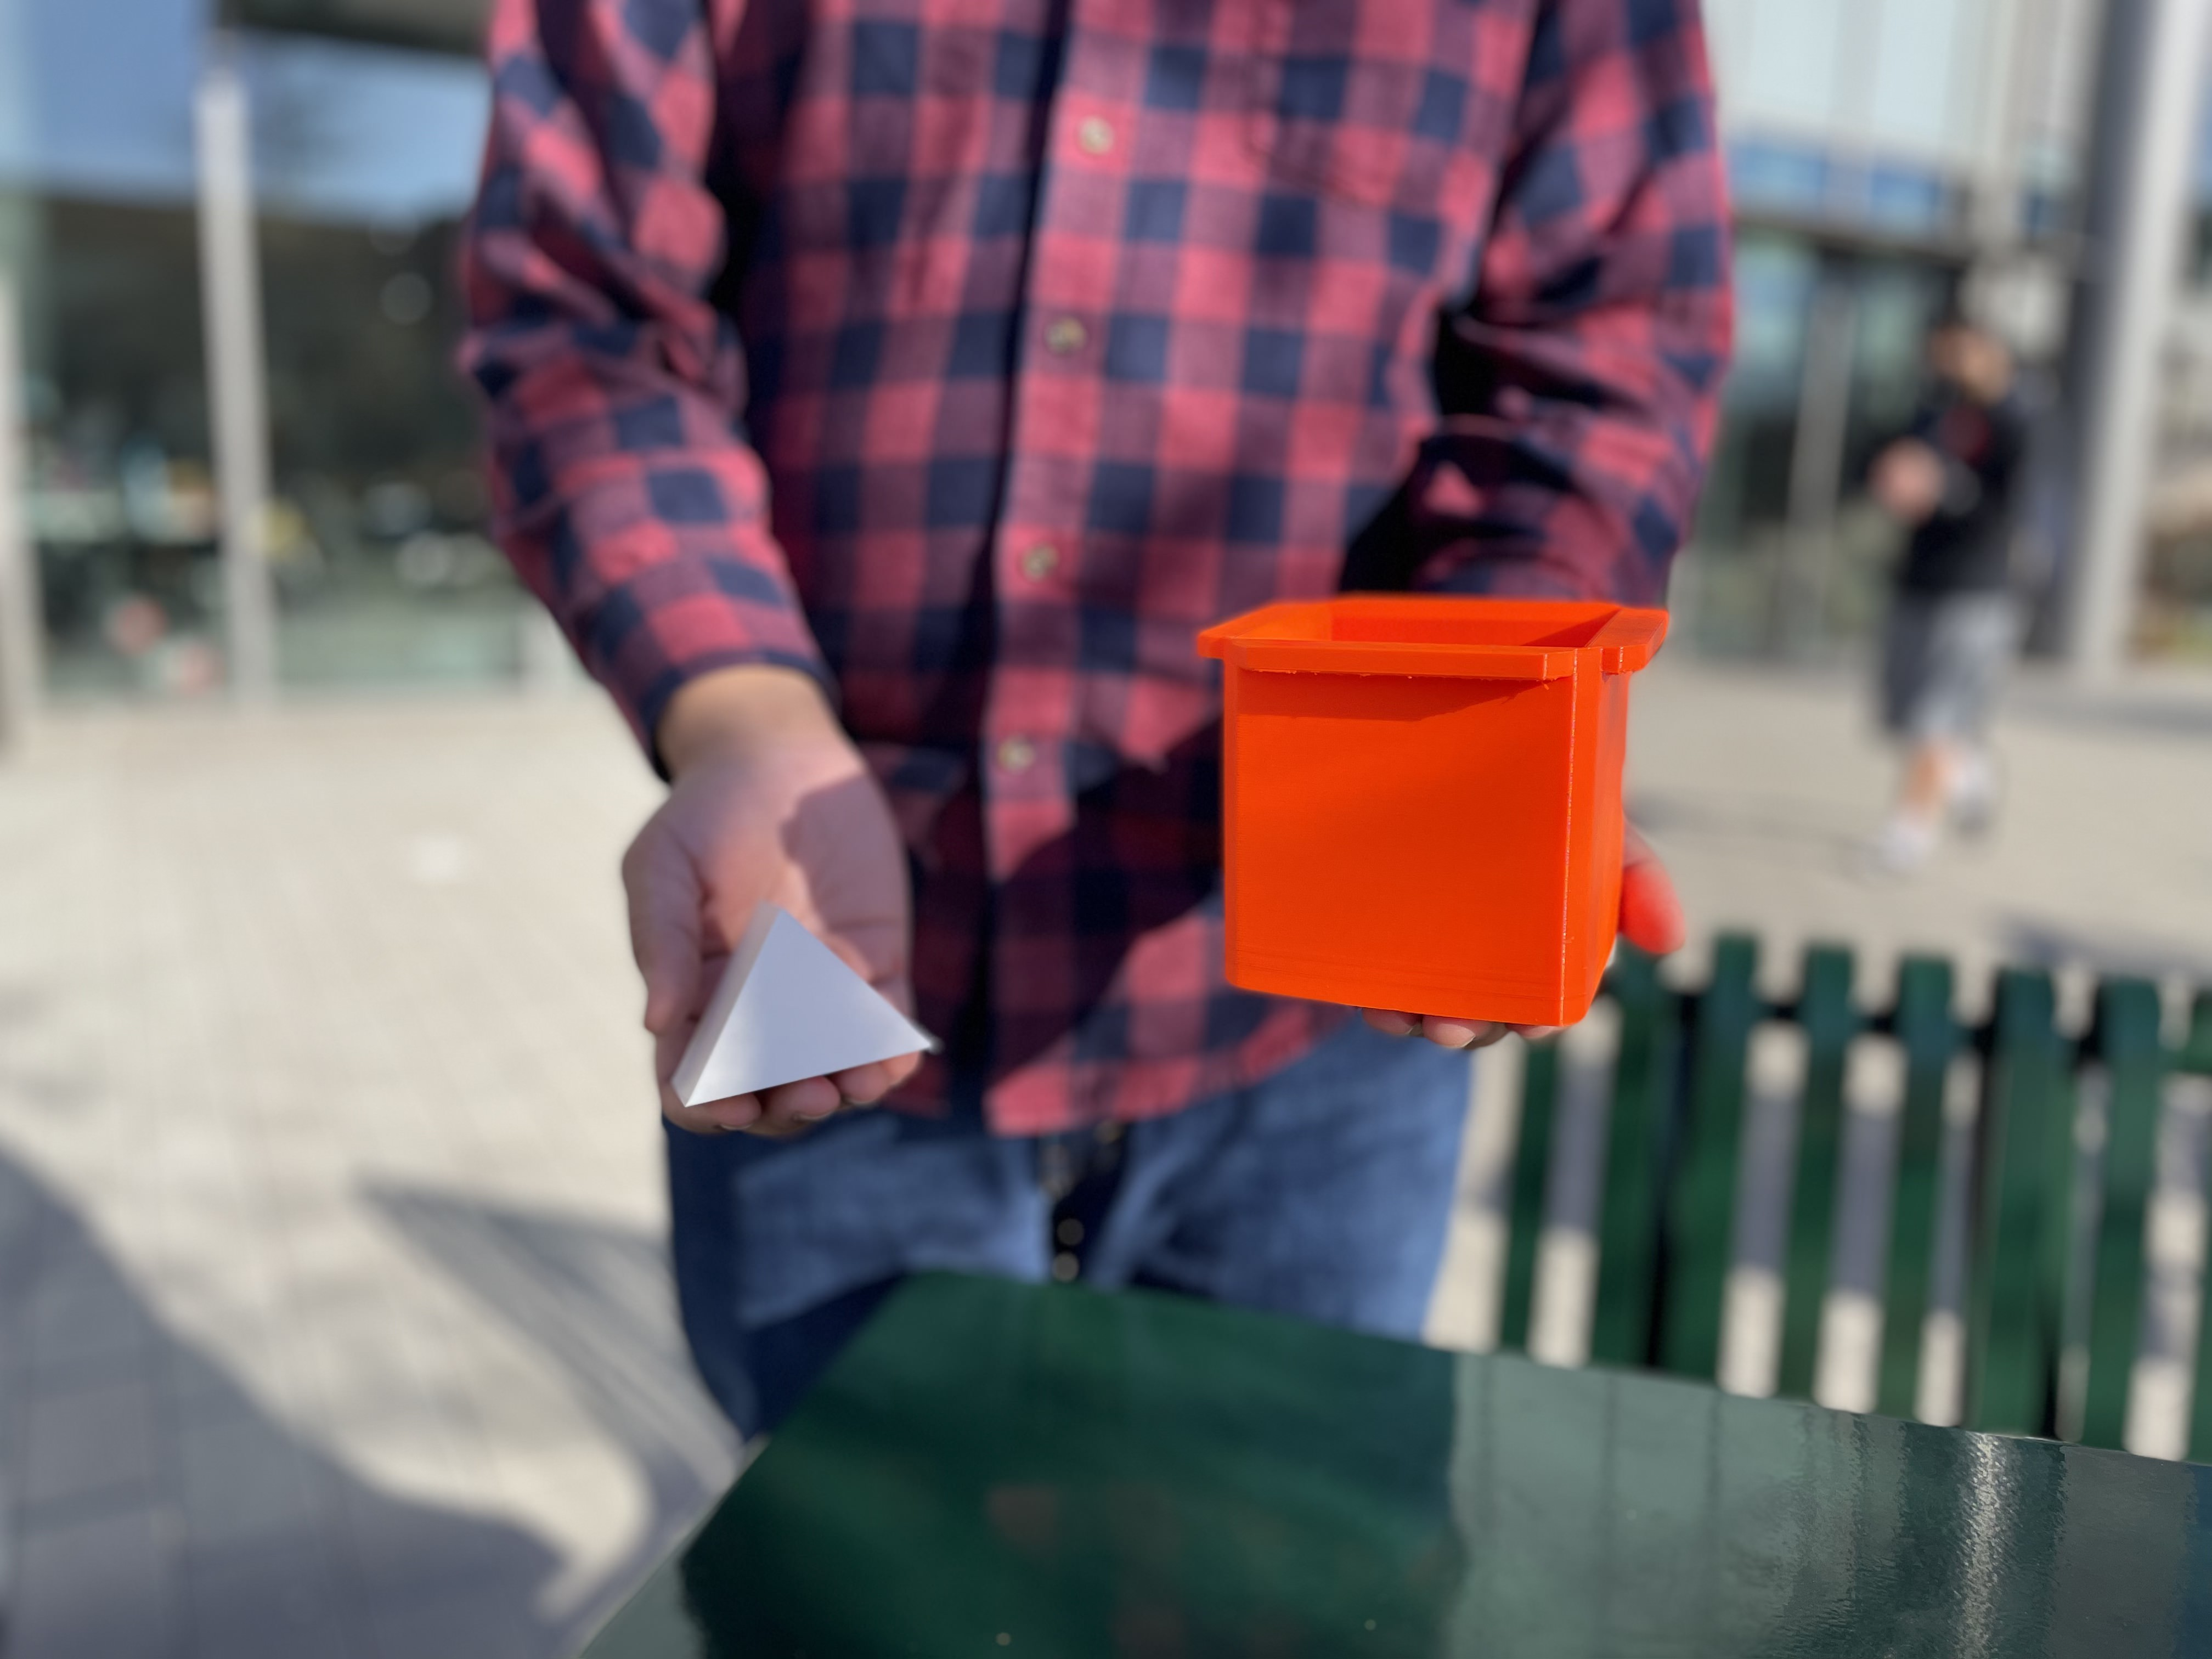payload1: (1183, 577, 1702, 1040)
payload2: (611, 863, 1008, 1157)
